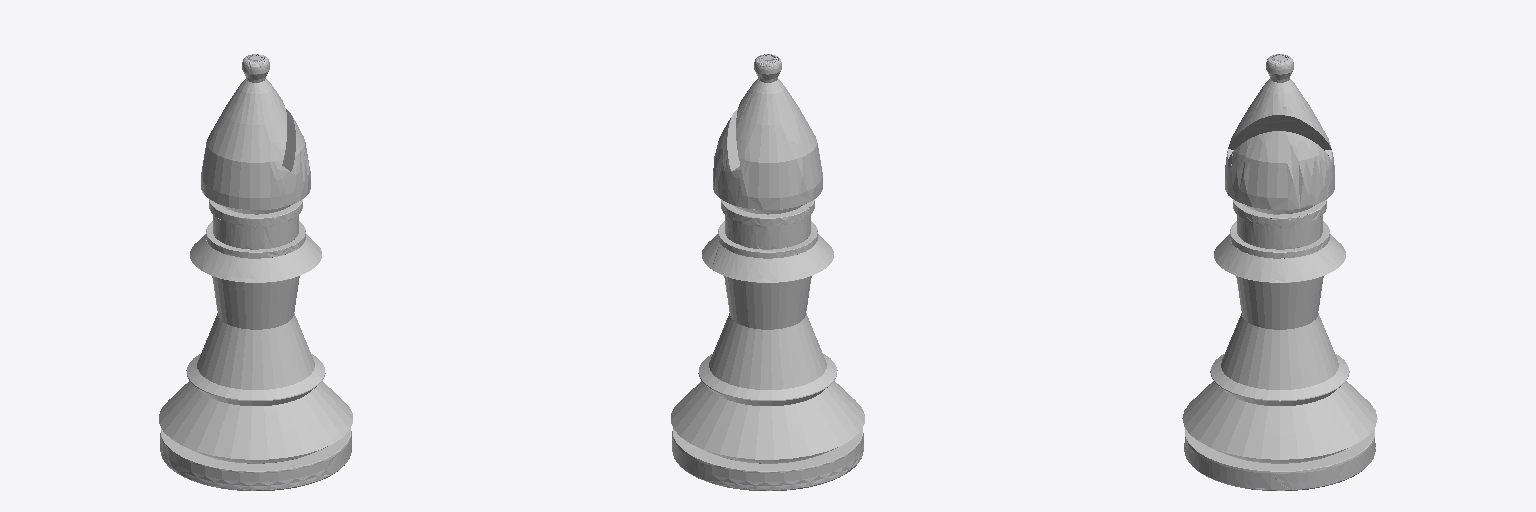
File: bishoplow.obj
The picture shows the model from 3 angles: view 1: azimuth 30°, elevation 25°; view 2: azimuth 150°, elevation 25°; view 3: azimuth 270°, elevation 25°; orthographic projection.
Parts seen in each view (by area): view 1: Cylinder.001; view 2: Cylinder.001; view 3: Cylinder.001.
Part boxes in pixels (left/top/right/bottom): Cylinder.001: left=159, top=54, right=352, bottom=490; Cylinder.001: left=671, top=54, right=864, bottom=490; Cylinder.001: left=1182, top=54, right=1377, bottom=490.
Size of the model in its own units: 2.03 by 4.54 by 2.03.